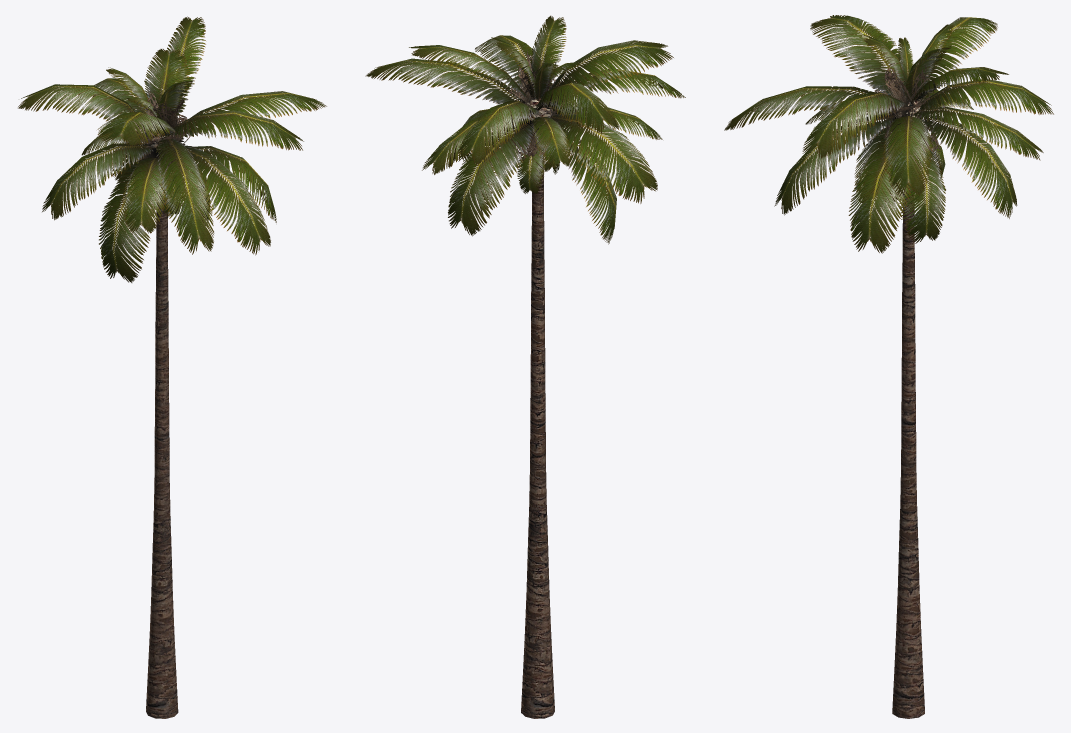
3 renders of one model, left to right at view 1: azimuth 30°, elevation 25°; view 2: azimuth 150°, elevation 25°; view 3: azimuth 270°, elevation 25°, orthographic. The views are drawn at different scales.
Visible parts, largest first — view 1: high; view 2: high; view 3: high.
Part boxes in pixels (x1,y1,x2,y2): high: (18, 16, 326, 718); high: (365, 15, 685, 718); high: (724, 15, 1053, 718).
Size of the model in its own units: 1.98 by 4.4 by 1.98.
Materials: 1 (1 with a texture image).
